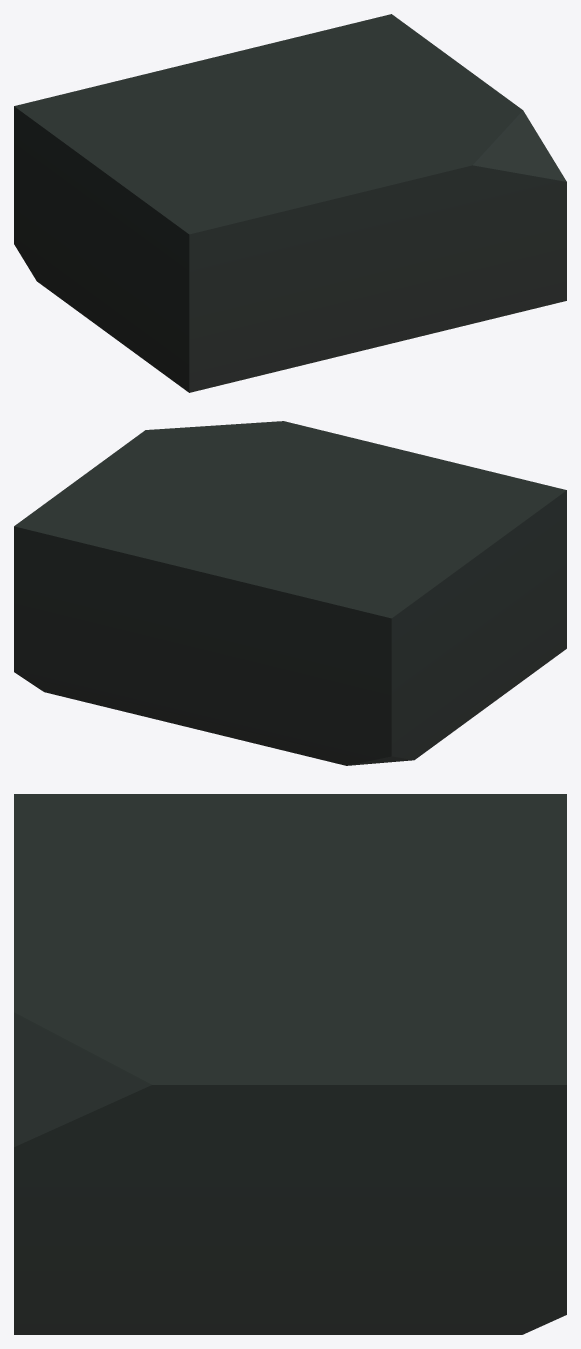
Rendered from SM_BrickRubble_02.fbx.
3 renders of one model, top to bottom at view 1: azimuth 30°, elevation 25°; view 2: azimuth 150°, elevation 25°; view 3: azimuth 270°, elevation 25°, orthographic. The views are drawn at different scales.
Parts seen in each view (by area): view 1: SM_BrickRubble_02; view 2: SM_BrickRubble_02; view 3: SM_BrickRubble_02.
Part boxes in pixels (x1=…): SM_BrickRubble_02: x1=14, y1=14, x2=566, y2=392; SM_BrickRubble_02: x1=14, y1=421, x2=566, y2=765; SM_BrickRubble_02: x1=14, y1=794, x2=566, y2=1334.
Bounding box in the file's own units: 90.07 × 36.11 × 72.4.
1 material, 1 textured.
